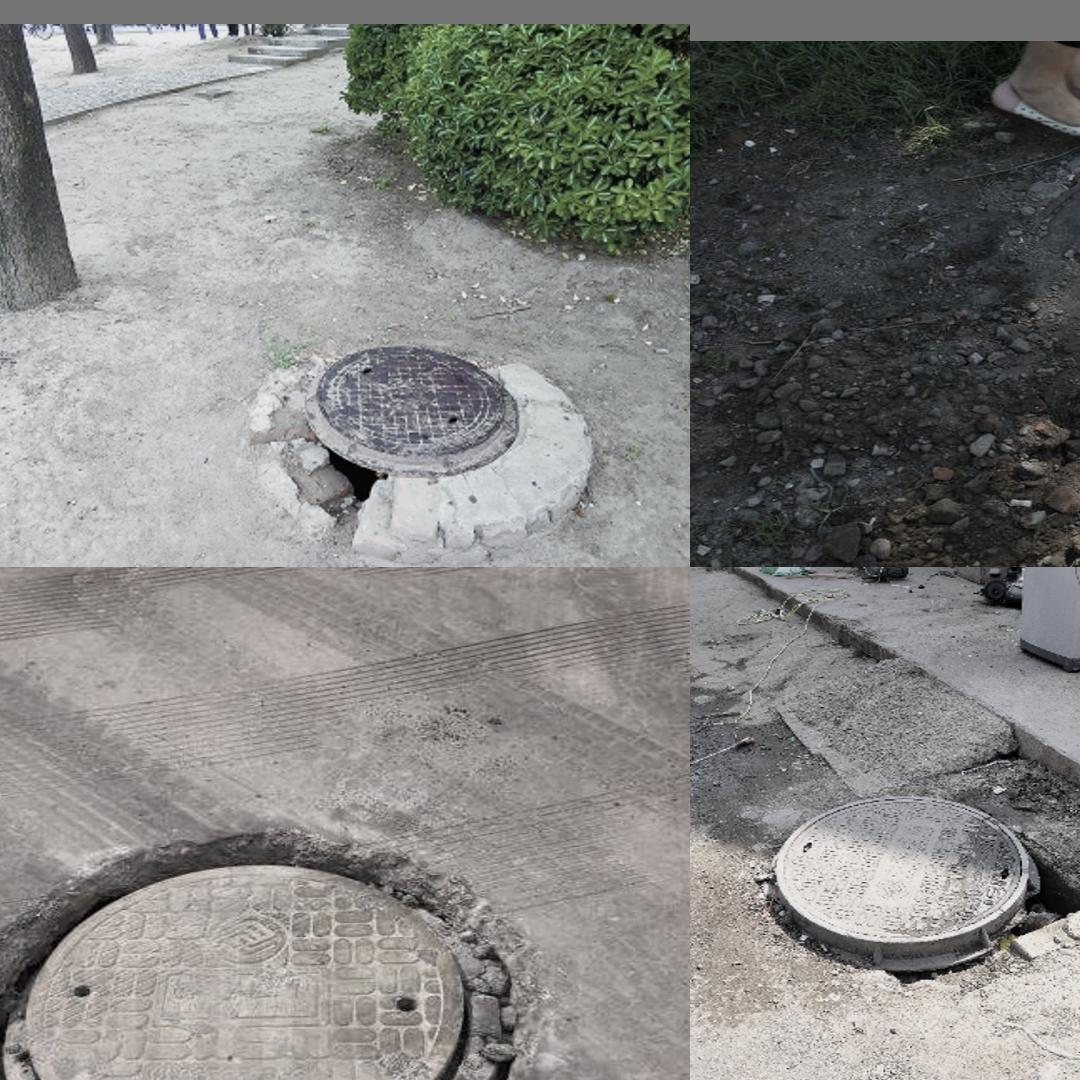circle: (0, 834, 530, 1080), (230, 338, 602, 541), (760, 784, 1078, 978), (931, 140, 1080, 429)
